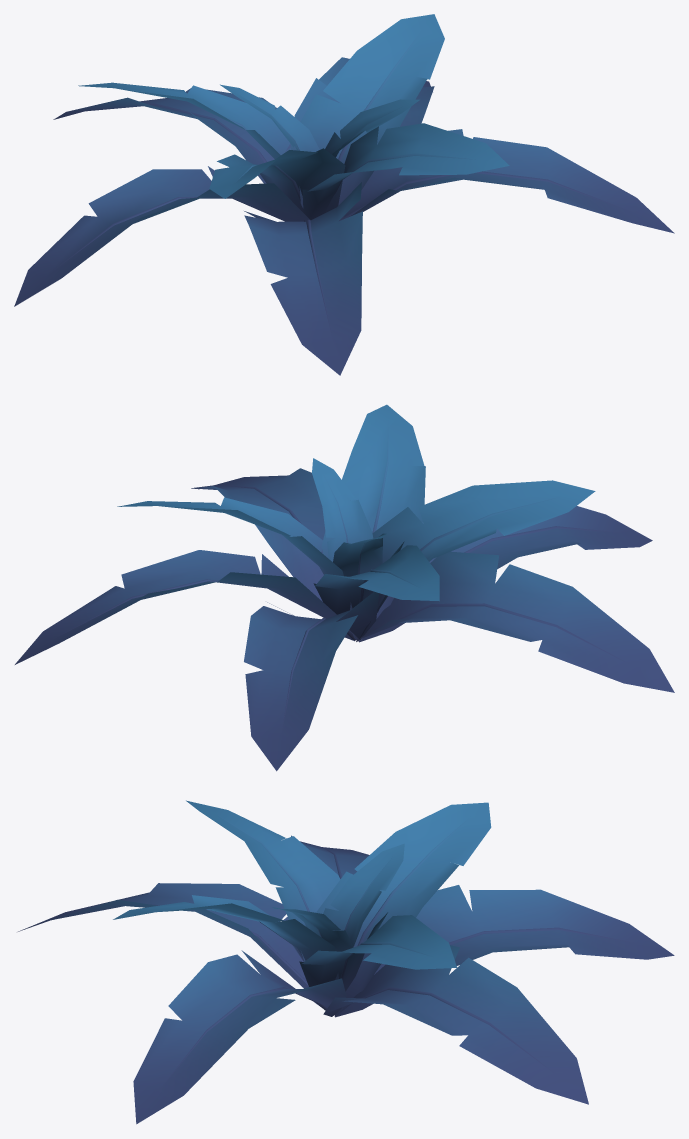
File: plant_12.fbx
3 views of the same model, one above another, from view 1: azimuth 30°, elevation 25°; view 2: azimuth 150°, elevation 25°; view 3: azimuth 270°, elevation 25° (orthographic).
Visible parts, largest first — view 1: plant_12; view 2: plant_12; view 3: plant_12.
Part boxes in pixels (bbox=[...]): plant_12: bbox=[14, 14, 674, 375]; plant_12: bbox=[15, 404, 674, 771]; plant_12: bbox=[18, 800, 674, 1124].
Bounding box in the file's own units: 8.74 × 2.12 × 8.85.
